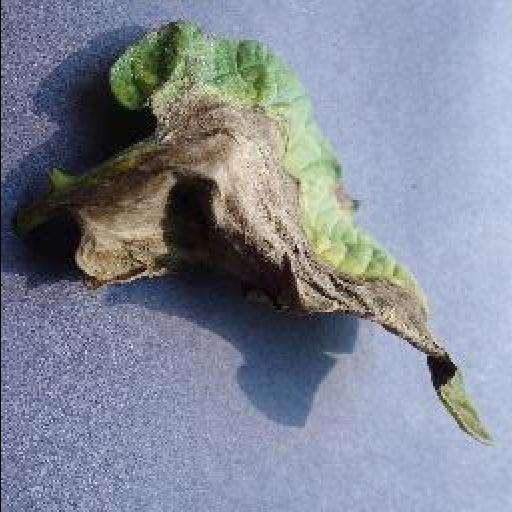disease_tomato: (73, 20, 495, 444)
